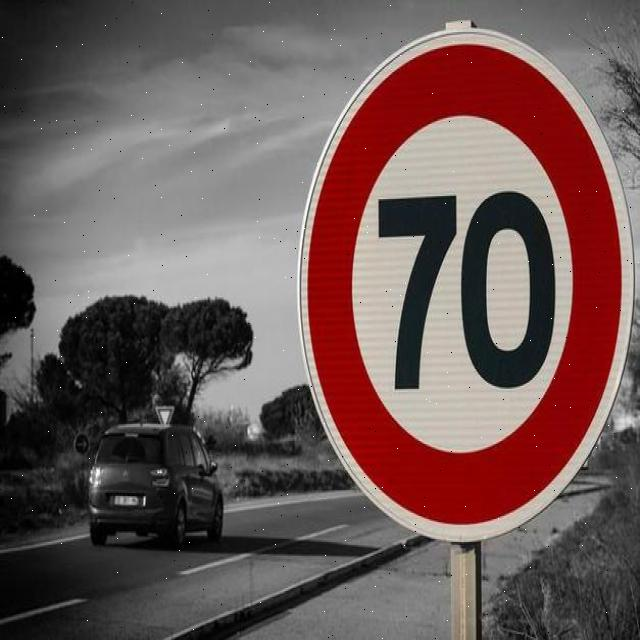speed limit 70: (298, 25, 637, 540)
